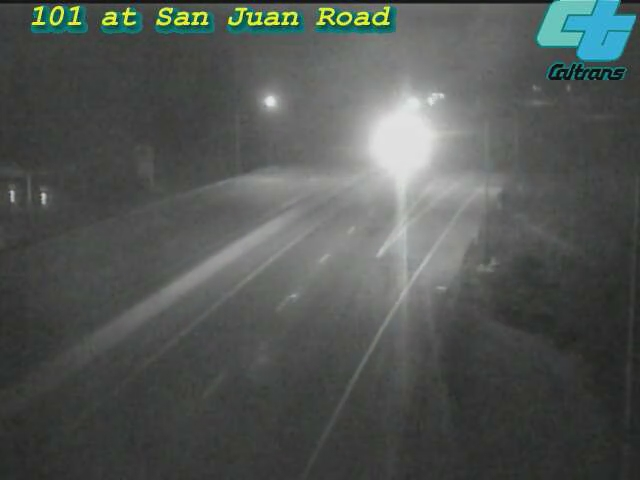vehicle: (369, 116, 419, 166)
